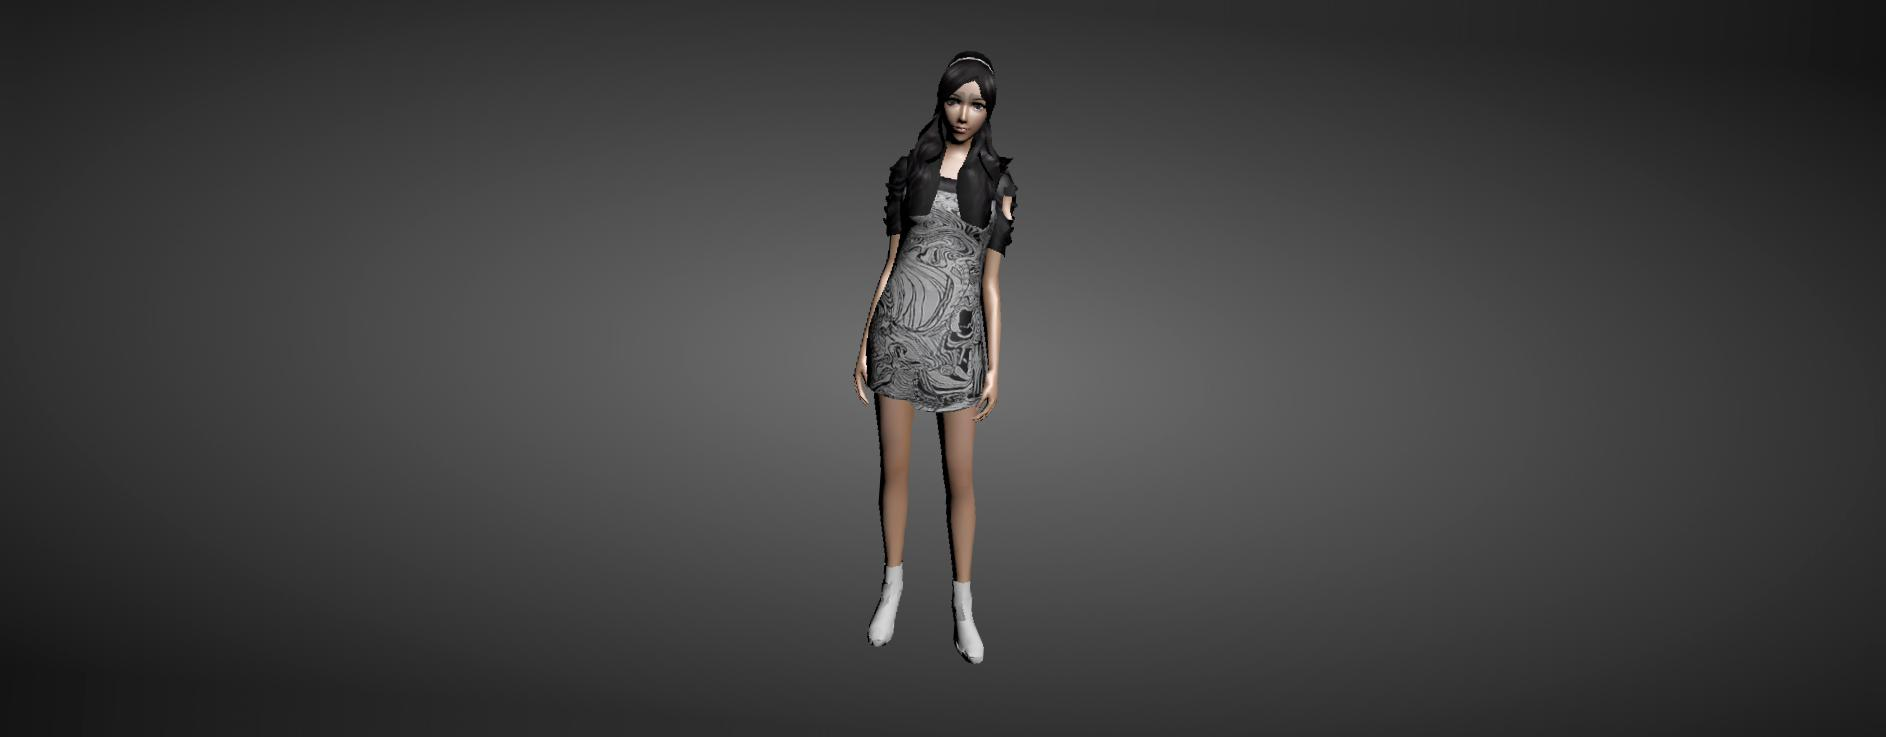clip: (1001, 183, 1021, 226)
